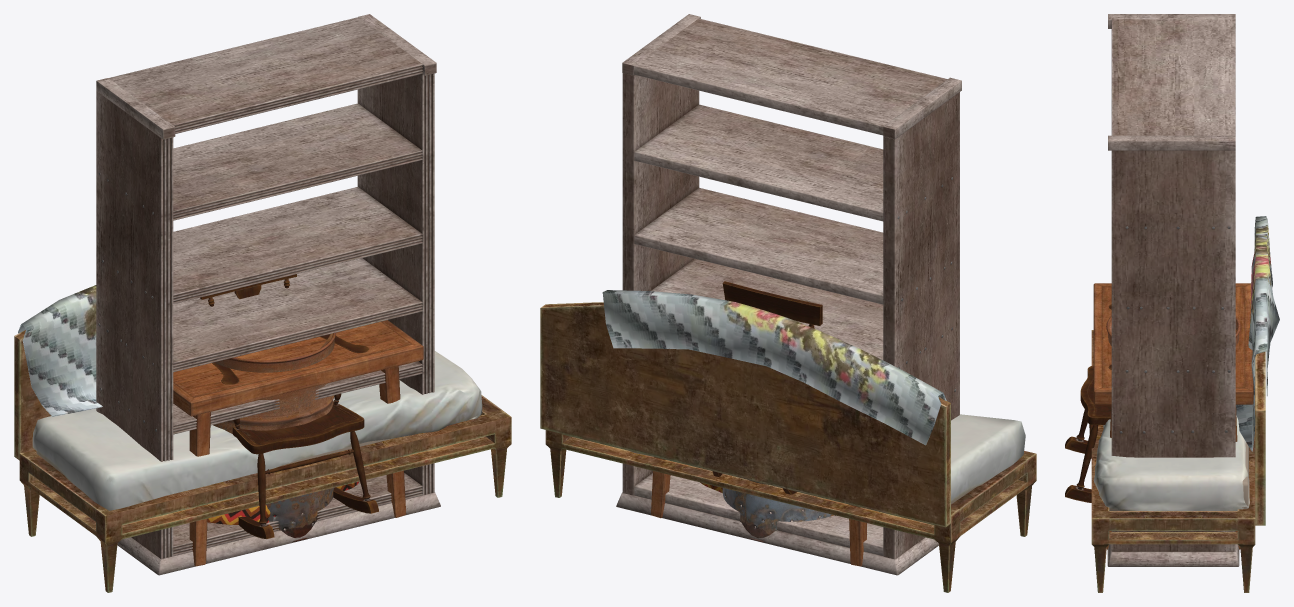
File: cabin_interior.glb
3 renders of one model, left to right at view 1: azimuth 30°, elevation 25°; view 2: azimuth 150°, elevation 25°; view 3: azimuth 270°, elevation 25°, orthographic. The views are drawn at different scales.
Parts seen in each view (by area): view 1: wooden_bookshelf_worn, vintage_day_bed, wooden_table_02, Rockingchair_01, barrel_stove; view 2: wooden_bookshelf_worn, vintage_day_bed, barrel_stove, Rockingchair_01, wooden_table_02; view 3: wooden_bookshelf_worn, vintage_day_bed, wooden_table_02, Rockingchair_01.
Boxes of the visible parts, x1,y1,x2,y2 form: wooden_bookshelf_worn: [96, 14, 440, 575]; vintage_day_bed: [14, 285, 511, 592]; wooden_table_02: [173, 320, 423, 566]; Rockingchair_01: [200, 274, 378, 538]; barrel_stove: [213, 332, 335, 541]; wooden_bookshelf_worn: [616, 14, 961, 575]; vintage_day_bed: [540, 290, 1036, 592]; barrel_stove: [722, 480, 833, 542]; Rockingchair_01: [712, 281, 822, 494]; wooden_table_02: [651, 457, 866, 566]; wooden_bookshelf_worn: [1107, 14, 1239, 566]; vintage_day_bed: [1091, 216, 1279, 592]; wooden_table_02: [1093, 283, 1253, 549]; Rockingchair_01: [1065, 304, 1111, 502].
Bounding box in the file's own units: 1.97 × 2.07 × 0.9485.
Materials: 10 (10 with a texture image).
